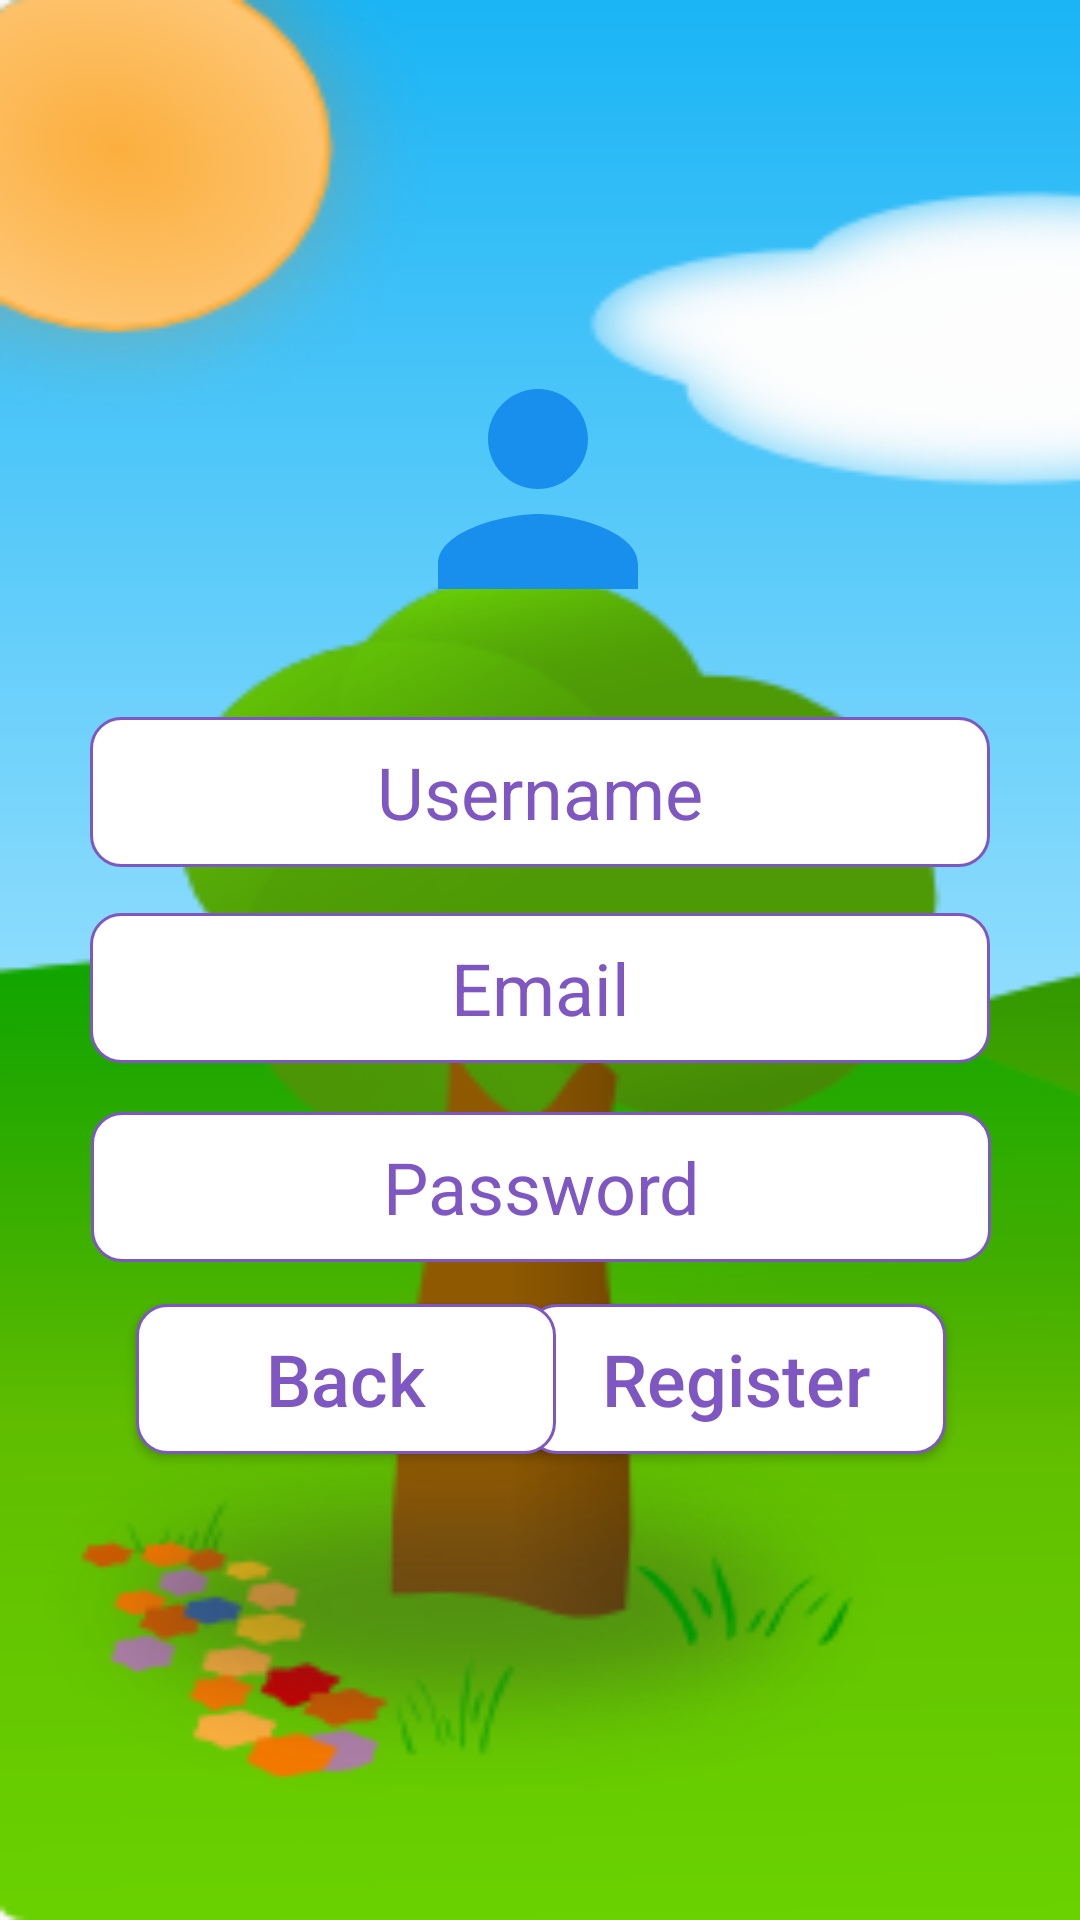

Screen size 1080px x 1920px. Icon name, then its center in pixels as point (x, y):
person: point (538, 489)
